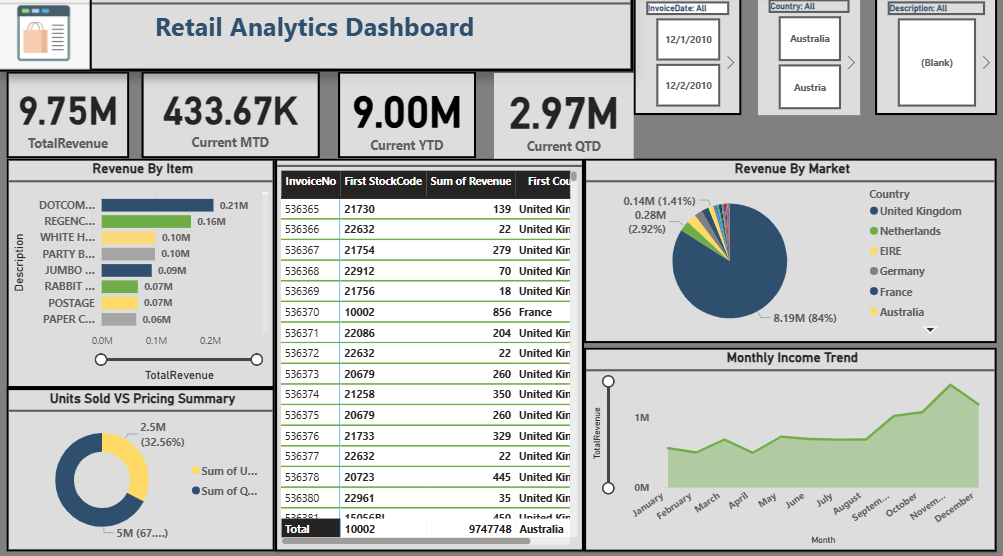

This screenshot's page, from the dashboard's own definition file:
{"tool":"powerbi","page":{"name":"Page 1","canvas":[1280,720],"ordinal":0},"visuals":[{"type":"card","fields":{"Values":["Online Retail.Current MTD"]},"box":[183.3,96.4,224.9,109.6],"z":0},{"type":"card","fields":{"Values":["Online Retail.TotalRevenue"]},"box":[13.2,96.4,155,109.6],"z":1000},{"type":"barChart","title":"Revenue By Item","fields":{"Category":["Online Retail.Description"],"Y":["Online Retail.TotalRevenue"]},"box":[13.2,206,338.3,289.1],"z":2000},{"type":"areaChart","title":"Monthly Income Trend","fields":{"Category":["Online Retail.InvoiceDate.Variation.Date Hierarchy.Month"],"Y":["Online Retail.TotalRevenue"]},"box":[740.8,444.1,519.7,257],"z":3000},{"type":"pieChart","title":"Revenue By Market","fields":{"Category":["Online Retail.Country"],"Y":["Online Retail.TotalRevenue"]},"box":[740.8,206,519.7,232.4],"z":4000},{"type":"pivotTable","fields":{"Rows":["Online Retail.InvoiceNo"],"Values":["Min(Online Retail.StockCode)","Sum(Online Retail.Revenue)","Min(Online Retail.Country)"]},"box":[351.5,206,389.3,495.1],"z":5000},{"type":"donutChart","title":" Units Sold VS Pricing Summary","fields":{"Y":["Sum(Online Retail.UnitPrice)","Sum(Online Retail.Quantity)"]},"box":[13,495,338,206],"z":6000},{"type":"textbox","box":[0,0,803.2,96.4],"z":7000},{"type":"slicer","fields":{"Values":["Online Retail.InvoiceDate"]},"box":[803.2,0,136.1,151.2],"z":8000},{"type":"slicer","fields":{"Values":["Online Retail.Country"]},"box":[960,0,128.5,151.2],"z":9000},{"type":"slicer","fields":{"Values":["Online Retail.Description"]},"box":[1107,0,154,151],"z":10000},{"type":"image","box":[0,0,120.9,96.4],"z":11000},{"type":"card","fields":{"Values":["Online Retail.Current YTD"]},"box":[430.9,96.4,173.9,109.6],"z":11001},{"type":"card","fields":{"Values":["Online Retail.Current QTD"]},"box":[627.4,98.3,175.7,107.7],"z":11002}]}

Visuals, with their boxes in screenshot pixels (x1, y1, x2, y2), scaled from the page's 1280x720 canvas onto the 1003x556 screenshot:
card - Online Retail.Current MTD: [144,74,320,159]
card - Online Retail.TotalRevenue: [10,74,132,159]
"Revenue By Item" barChart: [10,159,275,382]
"Monthly Income Trend" areaChart: [580,343,988,541]
"Revenue By Market" pieChart: [580,159,988,339]
pivotTable - Online Retail.InvoiceNo x Min(Online Retail.StockCode): [275,159,580,541]
" Units Sold VS Pricing Summary" donutChart: [10,382,275,541]
textbox: [0,0,629,74]
slicer - Online Retail.InvoiceDate: [629,0,736,117]
slicer - Online Retail.Country: [752,0,853,117]
slicer - Online Retail.Description: [867,0,988,117]
image: [0,0,95,74]
card - Online Retail.Current YTD: [338,74,474,159]
card - Online Retail.Current QTD: [492,76,629,159]
